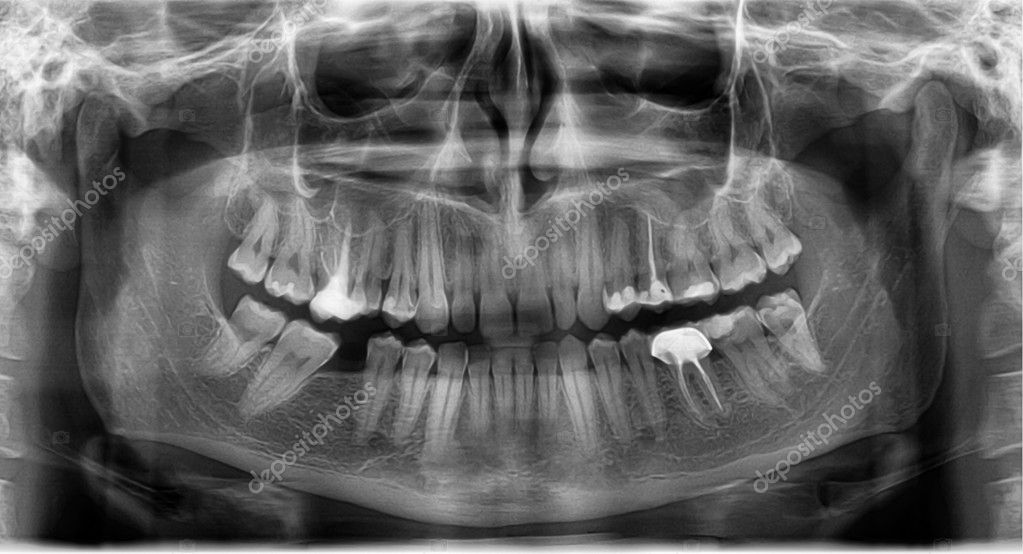canine: (552, 328, 596, 454), (573, 194, 612, 333), (434, 330, 471, 468), (413, 198, 450, 334)
incisor: (349, 329, 408, 446), (476, 203, 518, 343), (511, 211, 555, 342), (554, 330, 598, 456), (447, 202, 481, 344), (554, 201, 584, 334), (465, 342, 496, 455), (535, 340, 561, 456), (491, 340, 516, 455), (513, 340, 535, 453)
molar: (233, 325, 349, 423), (176, 293, 295, 380), (695, 299, 788, 410), (261, 188, 321, 308), (667, 174, 721, 306), (753, 291, 833, 378), (713, 178, 767, 299), (310, 225, 371, 331), (225, 176, 280, 287), (757, 168, 805, 280)
premolar: (632, 182, 682, 310), (616, 326, 668, 449), (601, 176, 645, 321), (584, 333, 635, 452), (343, 195, 386, 328), (380, 197, 420, 330), (398, 336, 437, 445)
